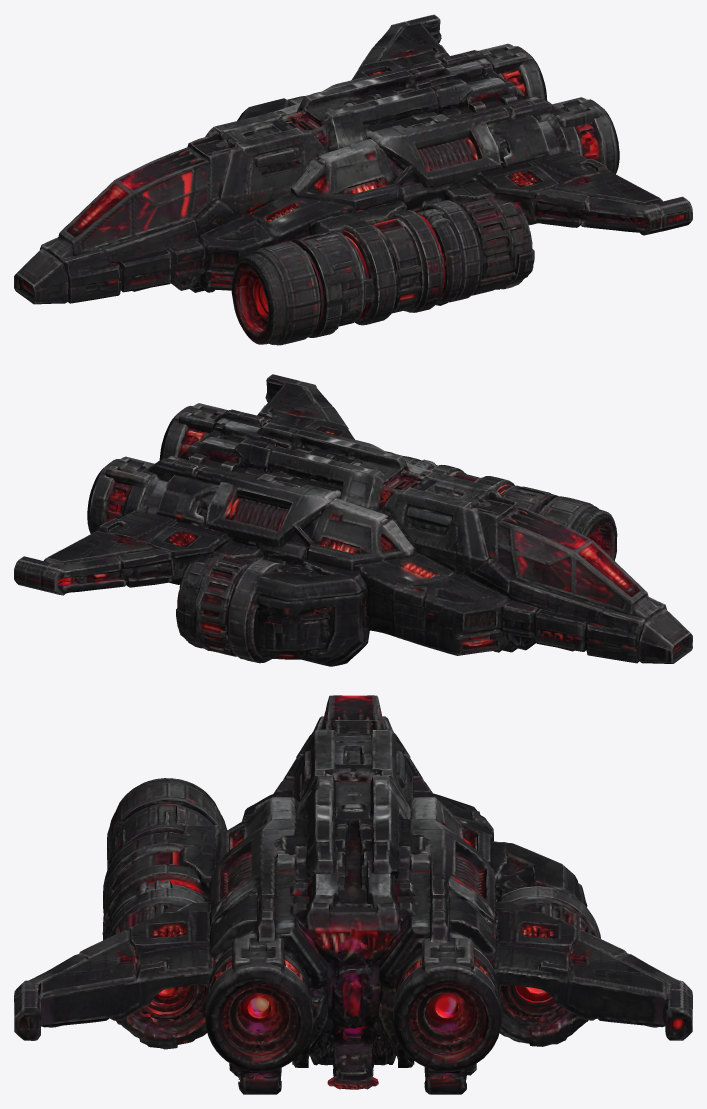
File: pyro.glb
3 renders of one model, top to bottom at view 1: azimuth 30°, elevation 25°; view 2: azimuth 150°, elevation 25°; view 3: azimuth 270°, elevation 25°, orthographic. The views are drawn at different scales.
Visible parts, largest first — view 1: mesh_0; view 2: mesh_0; view 3: mesh_0.
Part boxes in pixels (<box>): mesh_0: <box>14,14,692,345</box>; mesh_0: <box>14,374,692,666</box>; mesh_0: <box>14,695,692,1094</box>.
Size of the model in its own units: 1.9 by 0.5246 by 1.59.
Materials: 1 (1 with a texture image).
